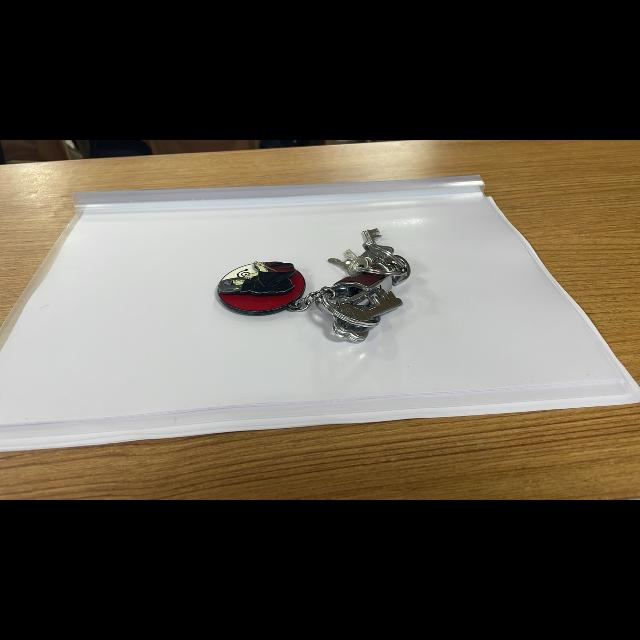keys: (203, 226, 443, 366)
